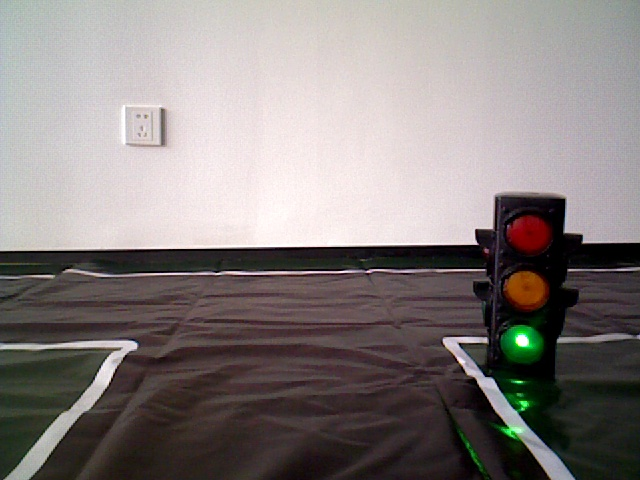green: (495, 202, 549, 369)
